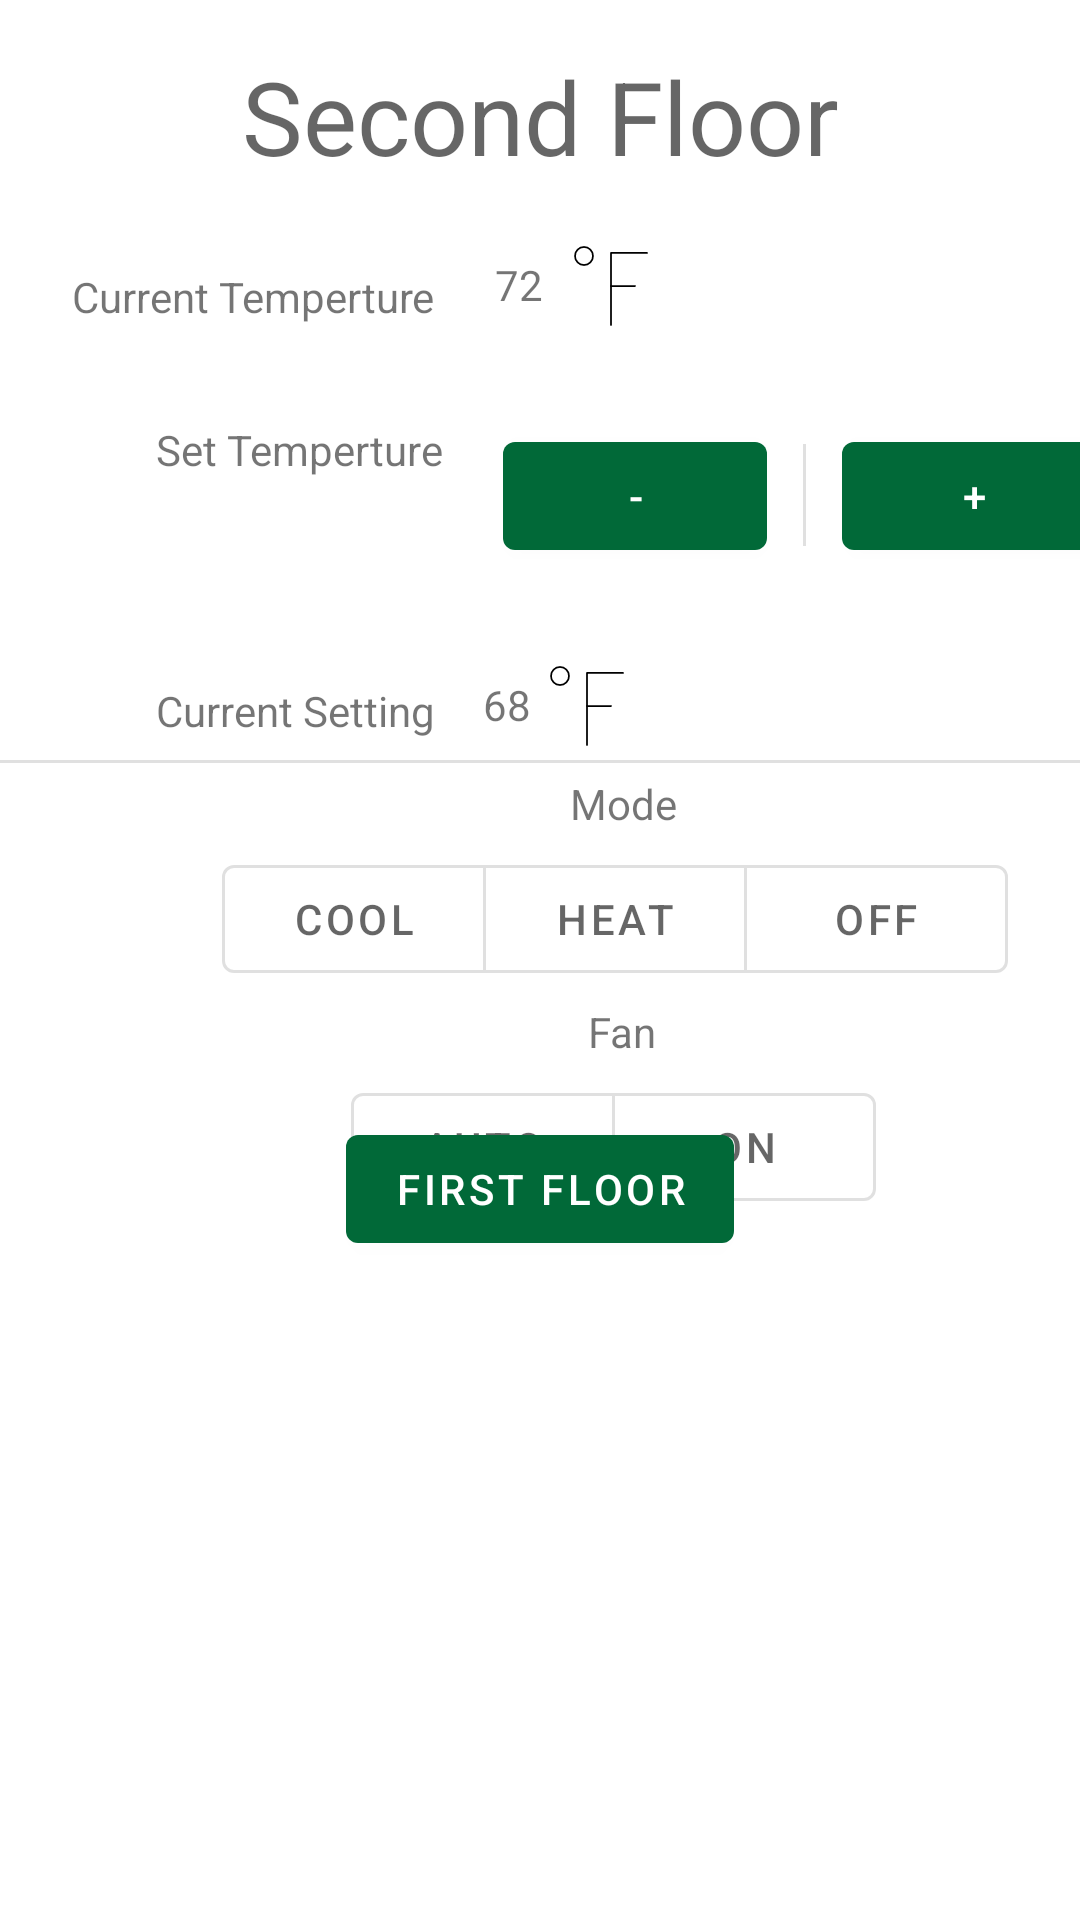

Icon click points for this 1080x1920 phone screenshot, format point (x, y):
streamline interface weather fahrenheit: point (611, 286), point (587, 706)
